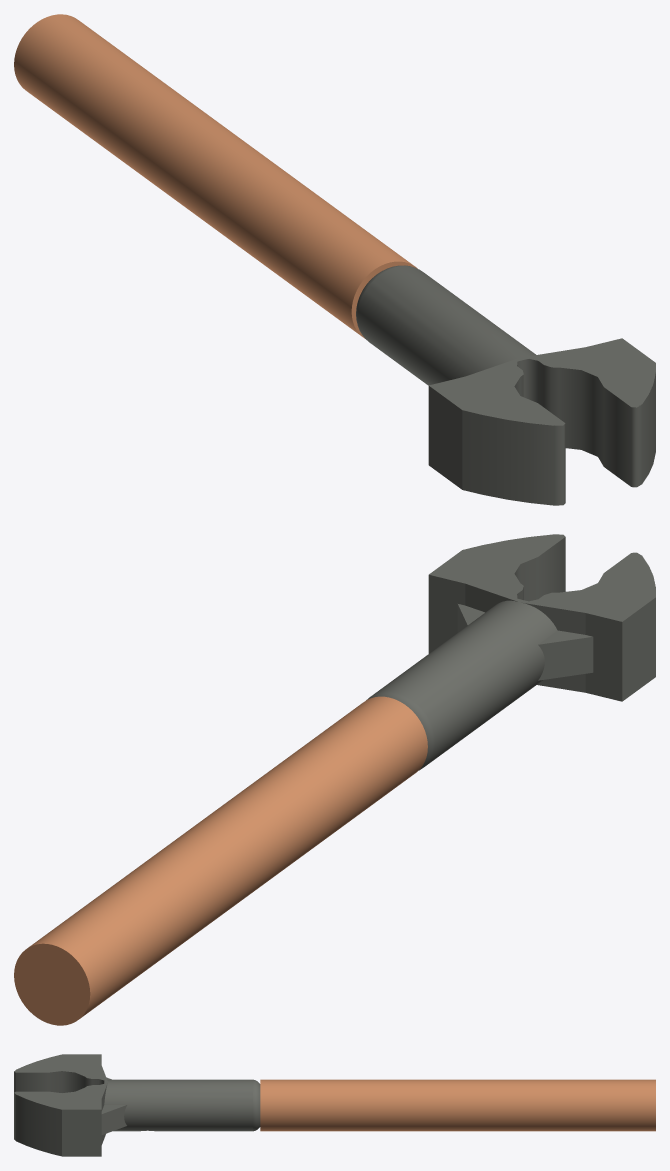
Rendered from bolzen.glb.
The picture shows the model from 3 angles, top to bottom: view 1: azimuth 30°, elevation 25°; view 2: azimuth 150°, elevation 25°; view 3: azimuth 270°, elevation 25°; orthographic projection. The views are drawn at different scales.
Parts seen in each view (by area): view 1: 48729b.dat, 87994.dat; view 2: 87994.dat, 48729b.dat; view 3: 87994.dat, 48729b.dat.
Part boxes in pixels (box(x1,y1,x2,y2)): 48729b.dat: box(356, 265, 655, 505); 87994.dat: box(14, 14, 417, 338); 87994.dat: box(14, 696, 427, 1025); 48729b.dat: box(367, 534, 655, 770); 87994.dat: box(260, 1079, 655, 1131); 48729b.dat: box(14, 1054, 260, 1156).
Bounding box in the file's own units: 0.198 × 0.078 × 0.9707.
